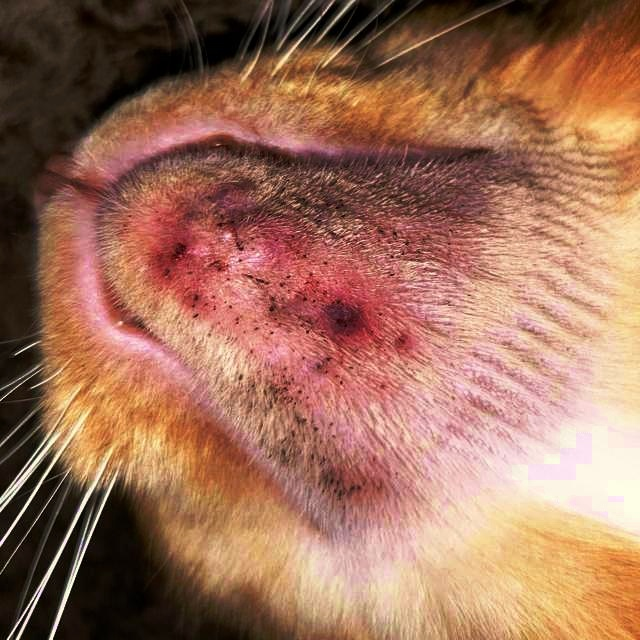acne: (160, 167, 427, 518)
